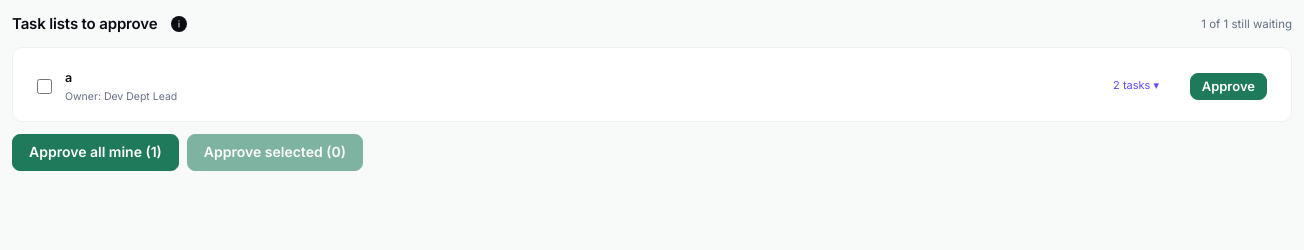
TaskListsApproval (ADR-0100 d.2/d.9) › opens the task list itself, in its order, with each task’s hours
Click the button with test id "tl-toggle-a" at (1136, 86), box [1113,78,1159,94]
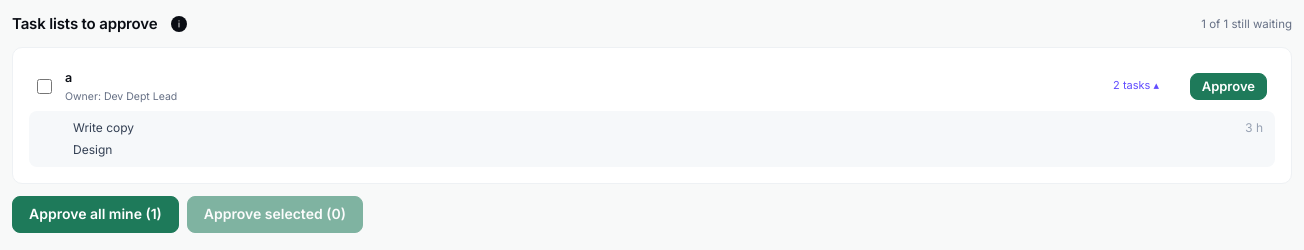
Check: the list with test id "tl-tasks-a" shows "Write copy", box [73,120,134,135]
Check: the list with test id "tl-tasks-a" shows "3 h", box [1245,120,1263,135]
Check: the button with test id "tl-toggle-a" is expanded, box [1113,78,1159,94]
